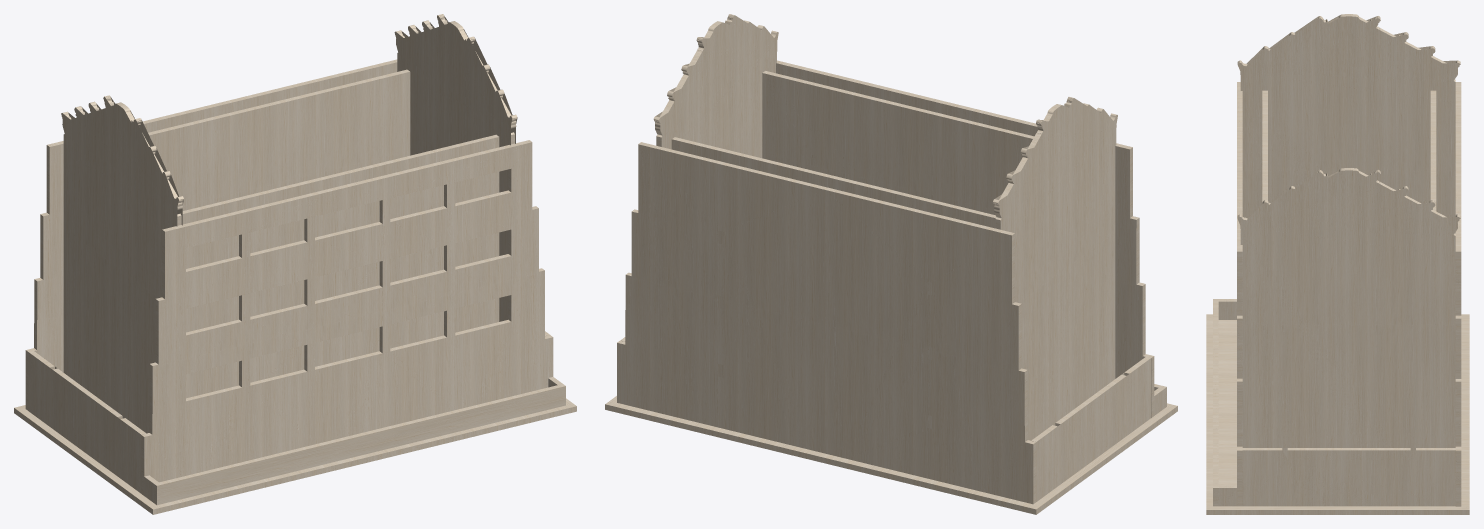
3 views of the same model, side by side, from view 1: azimuth 30°, elevation 25°; view 2: azimuth 150°, elevation 25°; view 3: azimuth 270°, elevation 25° (orthographic). The views are drawn at different scales.
Visible parts, largest first — view 1: Mesh2 Block_446_3_1 Model, Mesh8 ___150_2 Model, Mesh12 ___148_1 ___149_1 Model, Mesh7 ___146_1 ___147_1 Model, Mesh6 ___150_1 Model, Mesh9 ___165_1 ___166_1 Model, Mesh1 Block_1240_1_1 Model, Mesh11 ___155_2 Model, Mesh3 ___144_1 ___145_1 Model; view 2: Mesh1 Block_1240_1_1 Model, Mesh8 ___150_2 Model, Mesh12 ___148_1 ___149_1 Model, Mesh6 ___150_1 Model, Mesh2 Block_446_3_1 Model, Mesh11 ___155_2 Model, Mesh3 ___144_1 ___145_1 Model, Mesh7 ___146_1 ___147_1 Model; view 3: Mesh6 ___150_1 Model, Mesh8 ___150_2 Model, Mesh10 ___155_1 Model, Mesh3 ___144_1 ___145_1 Model, Mesh1 Block_1240_1_1 Model, Mesh2 Block_446_3_1 Model, Mesh9 ___165_1 ___166_1 Model, Mesh7 ___146_1 ___147_1 Model, Mesh12 ___148_1 ___149_1 Model, Mesh5 ___167_2 Model, Mesh4 ___167_1 Model.
Part boxes in pixels (box(x1,y1,x2,y2)): Mesh2 Block_446_3_1 Model: box(141, 140, 553, 495); Mesh8 ___150_2 Model: box(61, 95, 183, 433); Mesh12 ___148_1 ___149_1 Model: box(182, 134, 499, 398); Mesh7 ___146_1 ___147_1 Model: box(148, 69, 410, 210); Mesh6 ___150_1 Model: box(394, 14, 517, 321); Mesh9 ___165_1 ___166_1 Model: box(154, 384, 565, 505); Mesh1 Block_1240_1_1 Model: box(25, 59, 397, 410); Mesh11 ___155_2 Model: box(28, 351, 145, 493); Mesh3 ___144_1 ___145_1 Model: box(14, 398, 576, 514); Mesh1 Block_1240_1_1 Model: box(617, 142, 1036, 504); Mesh8 ___150_2 Model: box(993, 97, 1117, 440); Mesh12 ___148_1 ___149_1 Model: box(762, 71, 1034, 215); Mesh6 ___150_1 Model: box(653, 14, 778, 158); Mesh2 Block_446_3_1 Model: box(776, 60, 1154, 417); Mesh11 ___155_2 Model: box(1031, 357, 1150, 501); Mesh3 ___144_1 ___145_1 Model: box(605, 396, 1177, 514); Mesh7 ___146_1 ___147_1 Model: box(671, 137, 996, 228); Mesh6 ___150_1 Model: box(1237, 168, 1460, 447); Mesh8 ___150_2 Model: box(1237, 14, 1460, 233); Mesh10 ___155_1 Model: box(1242, 448, 1455, 506); Mesh3 ___144_1 ___145_1 Model: box(1206, 314, 1469, 514); Mesh1 Block_1240_1_1 Model: box(1455, 82, 1461, 506); Mesh2 Block_446_3_1 Model: box(1237, 82, 1242, 506); Mesh9 ___165_1 ___166_1 Model: box(1213, 299, 1218, 506); Mesh7 ___146_1 ___147_1 Model: box(1430, 90, 1436, 210); Mesh12 ___148_1 ___149_1 Model: box(1262, 90, 1267, 201); Mesh5 ___167_2 Model: box(1218, 485, 1237, 506); Mesh4 ___167_1 Model: box(1218, 299, 1236, 319).
Bounding box in the file's own units: 246 × 191 × 140.
Materials: 1 (1 with a texture image).
